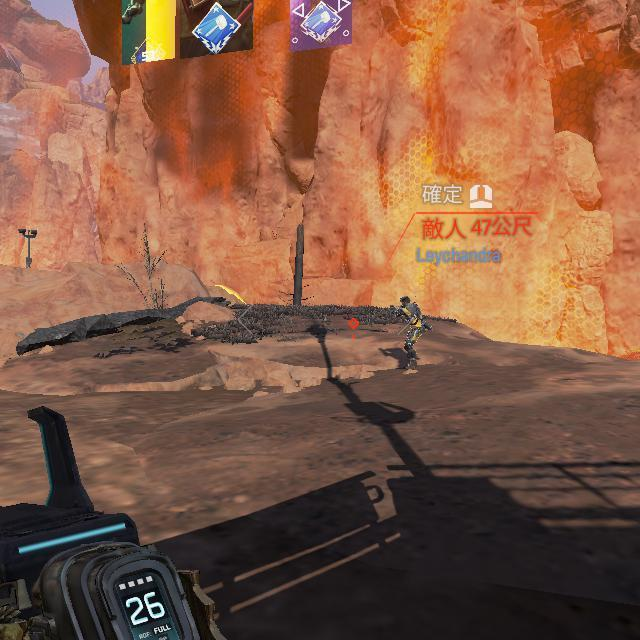avatar: (394, 294, 427, 371)
